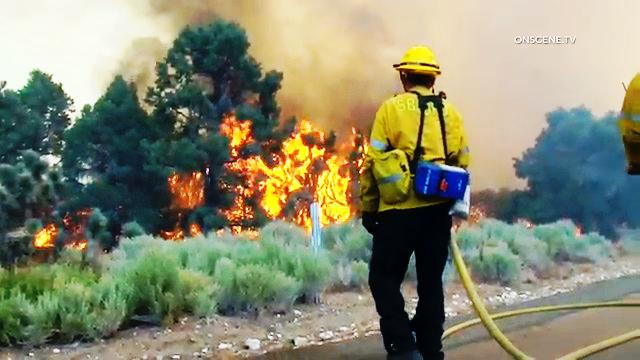fire: (232, 124, 352, 236), (165, 167, 204, 215), (36, 225, 61, 247)
smoke: (261, 0, 371, 96), (463, 15, 509, 93)
